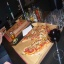pizza: (23, 23, 55, 51)
